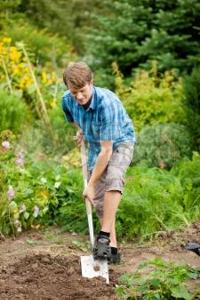person: (61, 60, 136, 265)
